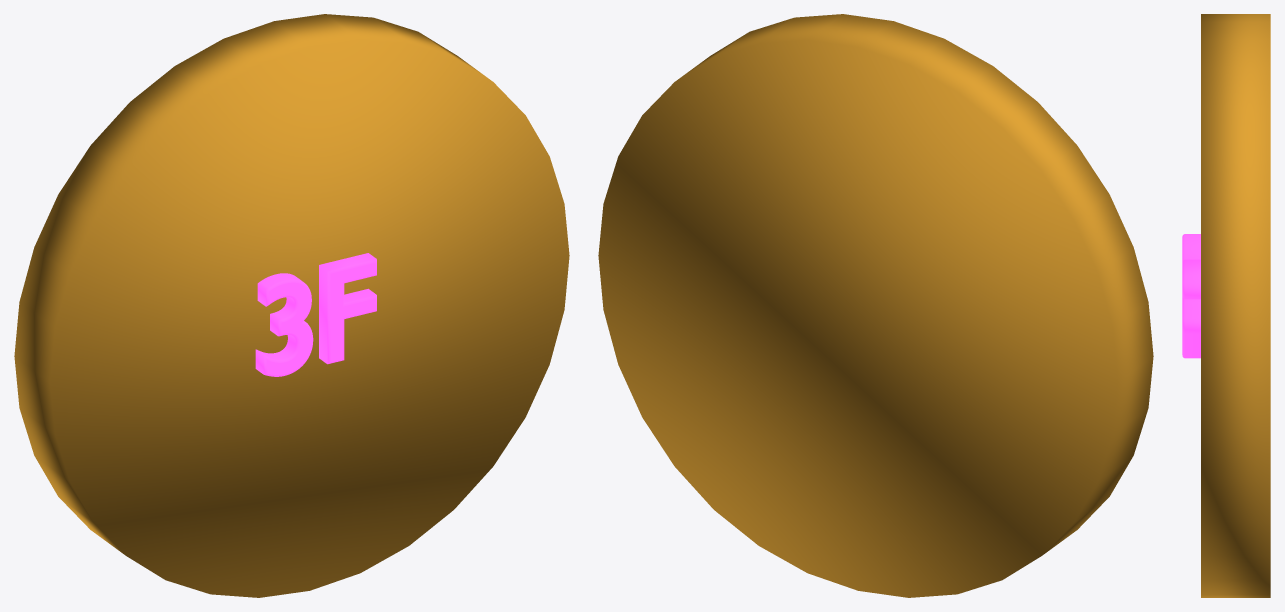
Rendered from EnchantedCoin.fbx.
3 renders of one model, left to right at view 1: azimuth 30°, elevation 25°; view 2: azimuth 150°, elevation 25°; view 3: azimuth 270°, elevation 25°, orthographic. The views are drawn at different scales.
Parts seen in each view (by area): view 1: VFX_EnchantedCoin; view 2: VFX_EnchantedCoin; view 3: VFX_EnchantedCoin.
Part boxes in pixels (x1=…): VFX_EnchantedCoin: x1=14, y1=14, x2=569, y2=597; VFX_EnchantedCoin: x1=598, y1=14, x2=1153, y2=597; VFX_EnchantedCoin: x1=1182, y1=14, x2=1270, y2=597.
Bounding box in the file's own units: 0.84 × 0.84 × 0.1268.
